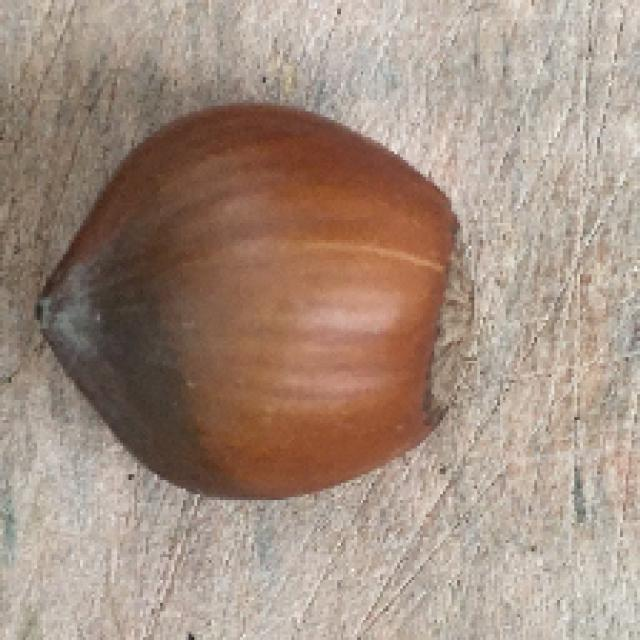damagedHazelnut: (30, 100, 477, 506)
